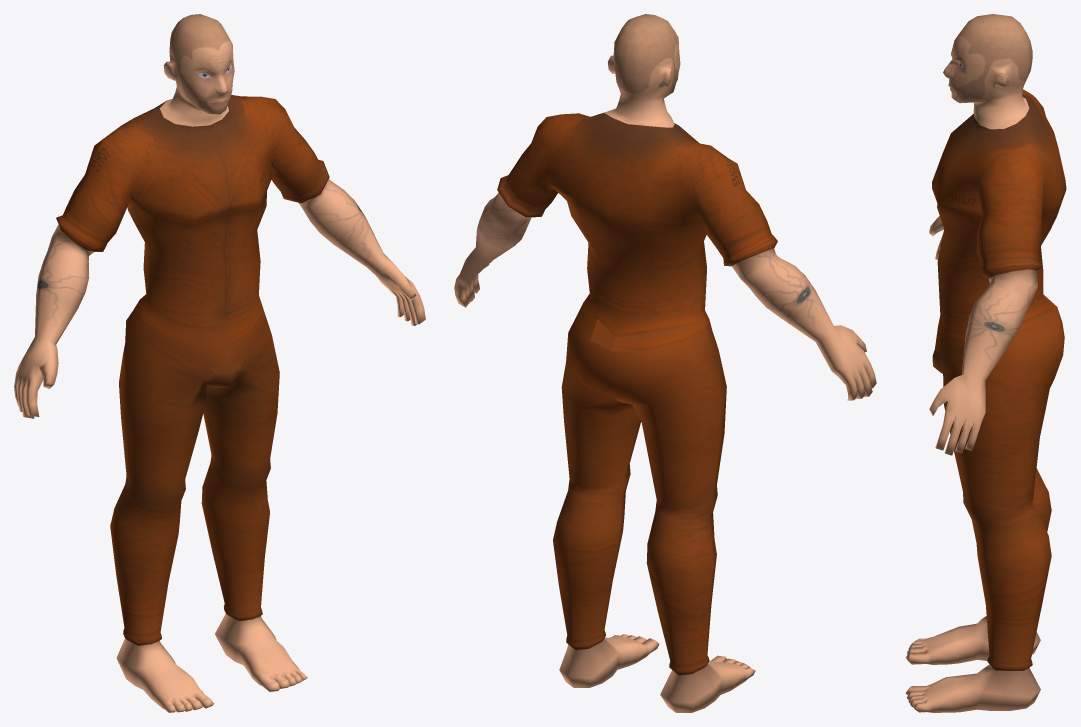
Rendered from Jaegar.fbx.
3 renders of one model, left to right at view 1: azimuth 30°, elevation 25°; view 2: azimuth 150°, elevation 25°; view 3: azimuth 270°, elevation 25°, orthographic. The views are drawn at different scales.
Visible parts, largest first — view 1: Jaegar; view 2: Jaegar; view 3: Jaegar.
Part boxes in pixels (x1,y1,x2,y2): Jaegar: [14, 14, 425, 712]; Jaegar: [454, 14, 876, 712]; Jaegar: [905, 14, 1066, 712].
Bounding box in the file's own units: 40.86 × 64.28 × 14.16.
